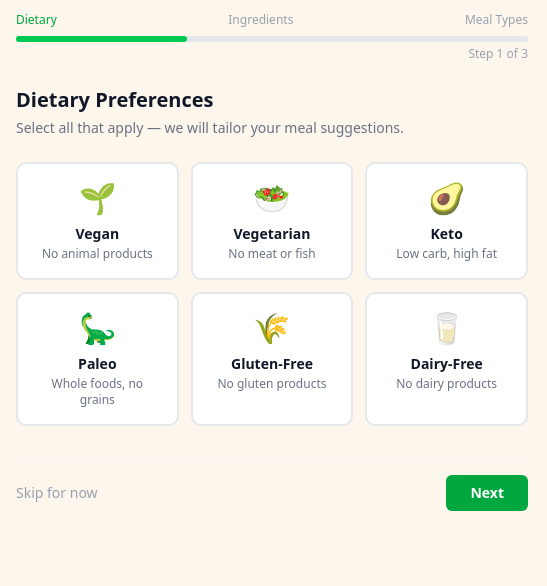
it: OnboardingWizard › advances through all steps to completion
Click the button "Next": (487,493) [446,475,528,511]
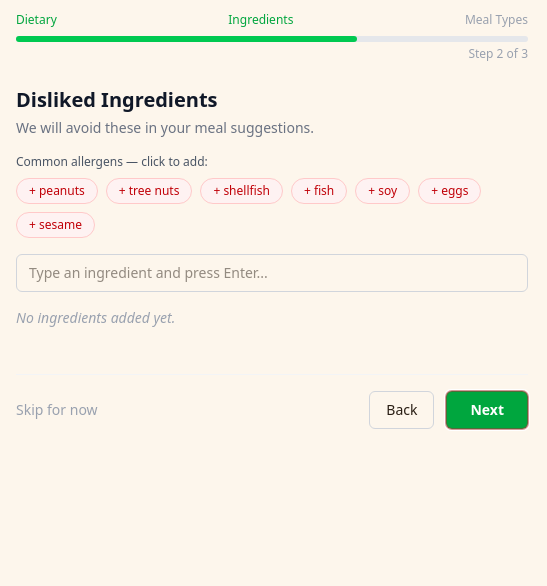
Click the button "Next": (487,410) [446,391,528,429]
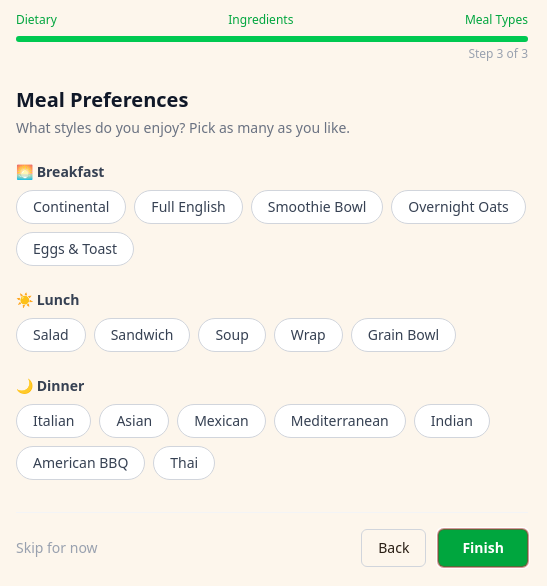
Click the button "Finish": (483,548) [438,529,528,567]
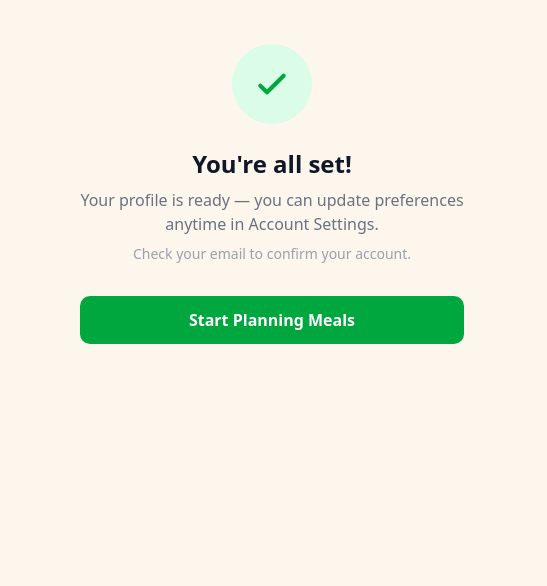
Check: the heading "You're all set!" is shown, box [192,148,352,180]
